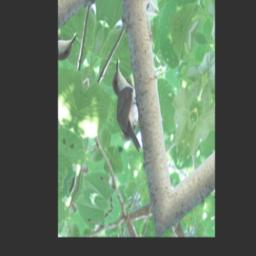Cuckoo: (97, 58, 161, 154)
